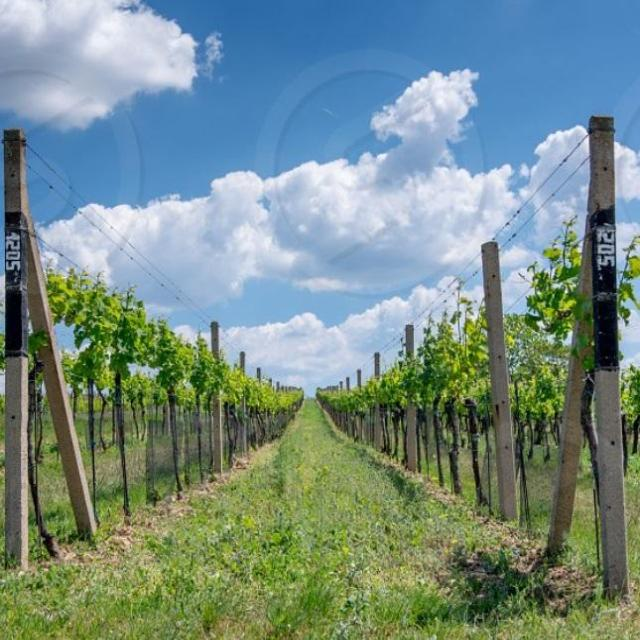row: (1, 398, 597, 640)
